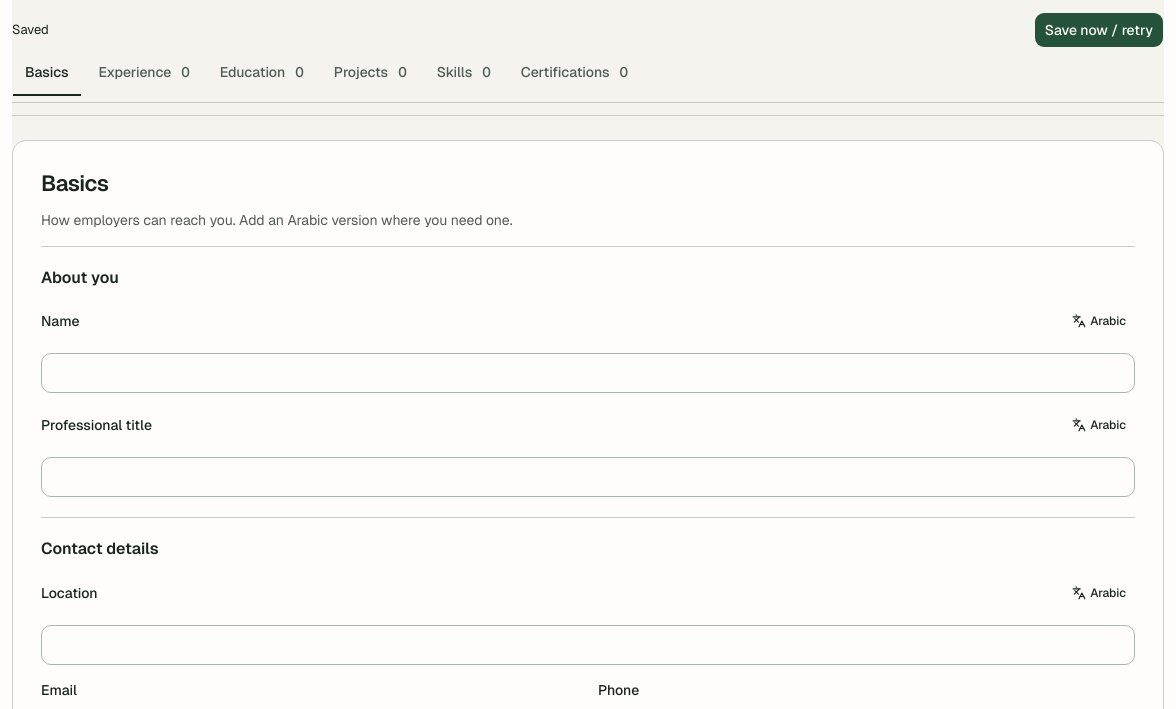
automatically saves the edited bilingual form after the debounce
Type "New name" into the field labelled "Name" at (588, 373), box [41,353,1135,393]
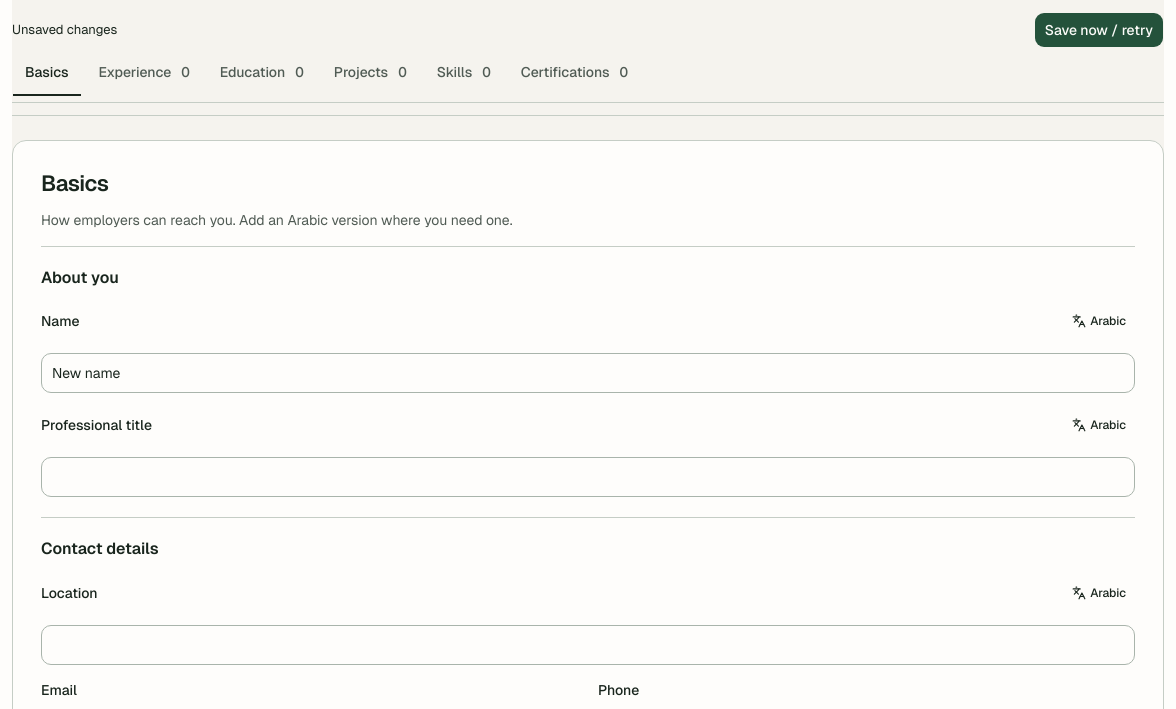
Replace the text in the field named "Name · Arabic (optional)" with "اسم" at (60, 321), box [41,305,1135,393]
Wait 650 ms
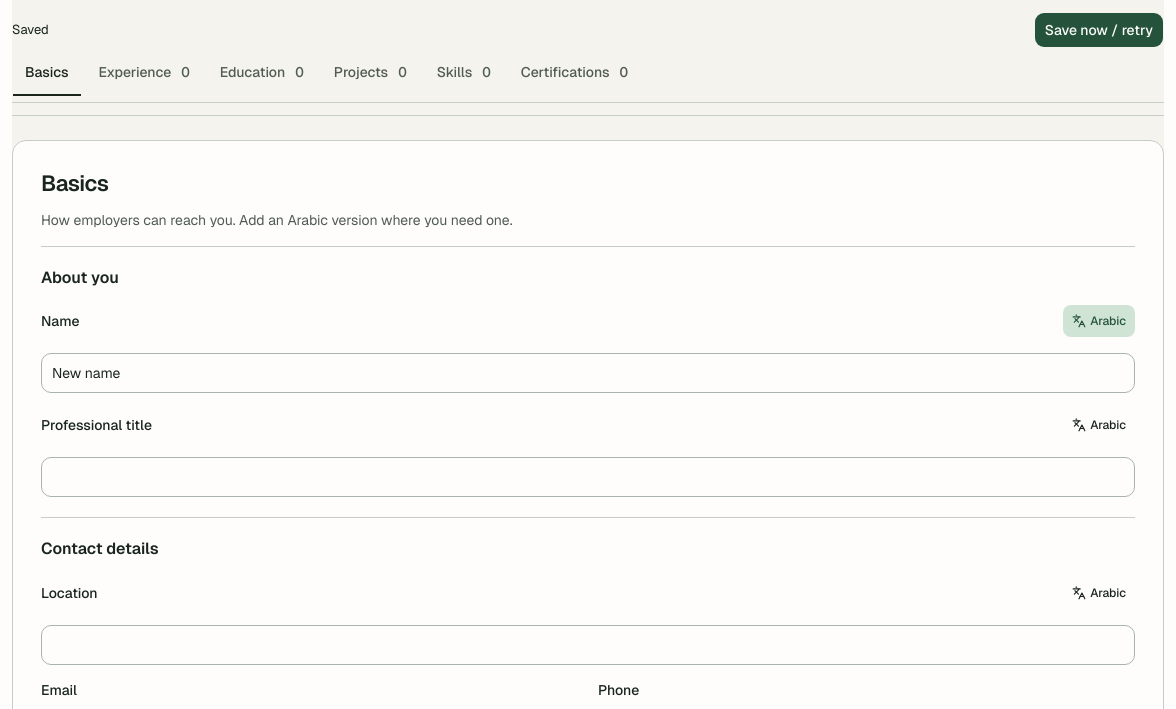
Result: the message reads "Saved" at [12,21,49,38]
